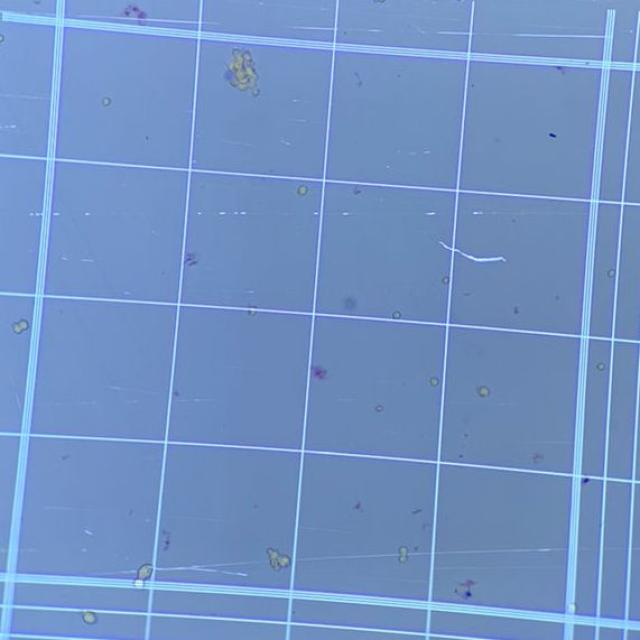Cell: (137, 562, 153, 580), (12, 319, 29, 334), (81, 611, 97, 625), (266, 548, 279, 560), (398, 544, 411, 556), (277, 556, 291, 567), (246, 304, 258, 316), (477, 386, 489, 398), (532, 453, 544, 464), (134, 578, 145, 590), (297, 185, 308, 196), (398, 555, 409, 565), (392, 310, 402, 320), (429, 376, 439, 386), (596, 362, 606, 371), (102, 96, 111, 106), (607, 268, 616, 278), (555, 66, 565, 75), (374, 404, 384, 412), (568, 603, 576, 613), (441, 276, 449, 285), (421, 522, 430, 530), (270, 560, 278, 569), (373, 0, 386, 4), (0, 34, 5, 44), (173, 390, 180, 397), (628, 27, 634, 35), (291, 610, 296, 616), (458, 454, 464, 458)
